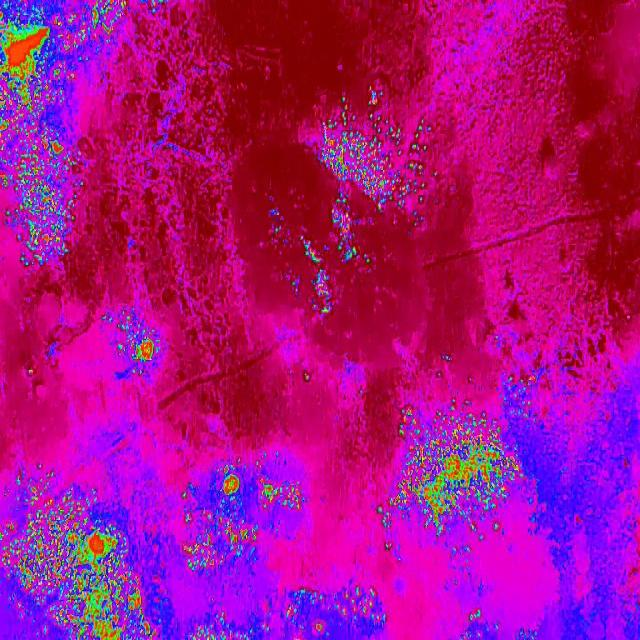fire: (0, 452, 306, 640), (0, 0, 91, 274), (377, 405, 522, 555), (318, 92, 442, 224), (302, 203, 361, 316), (98, 301, 168, 381), (307, 581, 395, 640), (90, 0, 134, 46)
